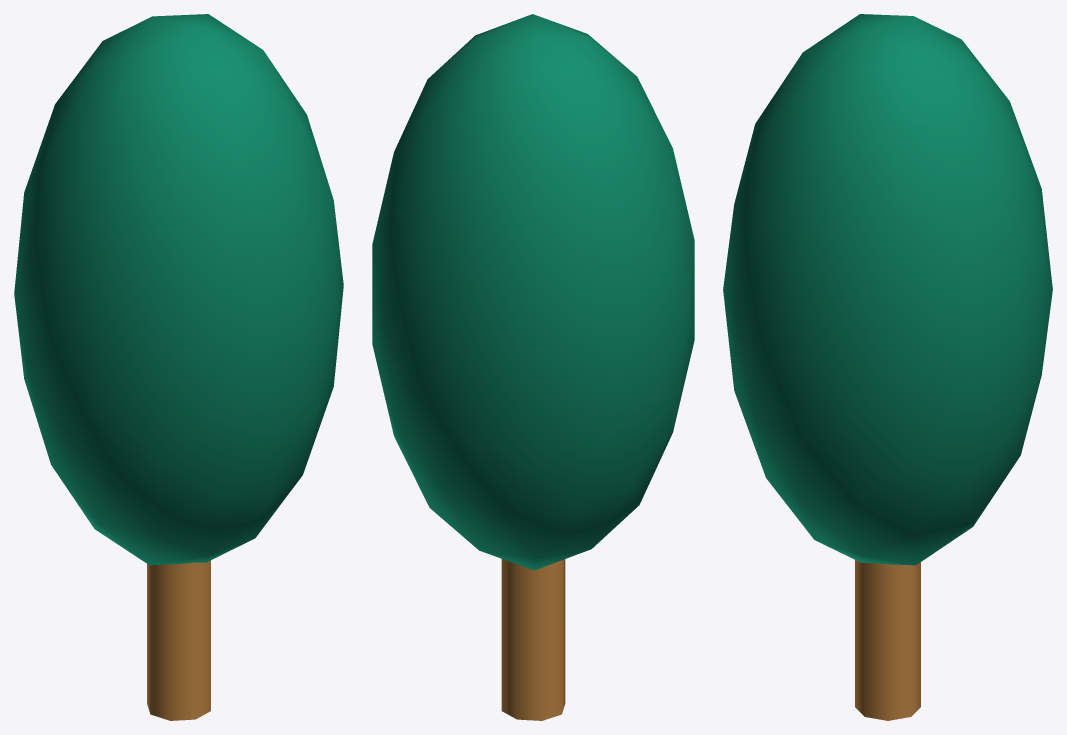
The model's file is bush02_s01.FBX.
3 renders of one model, left to right at view 1: azimuth 30°, elevation 25°; view 2: azimuth 150°, elevation 25°; view 3: azimuth 270°, elevation 25°, orthographic.
Parts seen in each view (by area): view 1: bush02_s01; view 2: bush02_s01; view 3: bush02_s01.
Part boxes in pixels (x1,y1,x2,y2): bush02_s01: (14,14,343,720); bush02_s01: (372,14,694,720); bush02_s01: (723,14,1052,720).
Size of the model in its own units: 140 by 142 by 325.
Materials: 1 (1 with a texture image).
